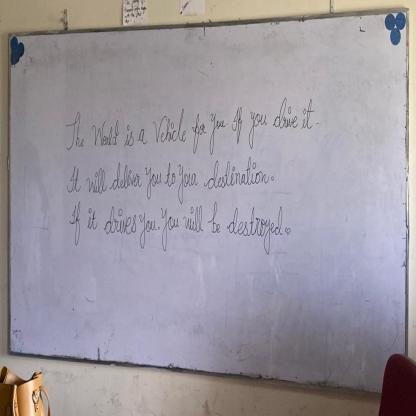Handwritten text: (63, 94, 317, 157), (60, 201, 287, 269), (64, 155, 270, 204)
Whiteboard: (5, 7, 408, 390)
